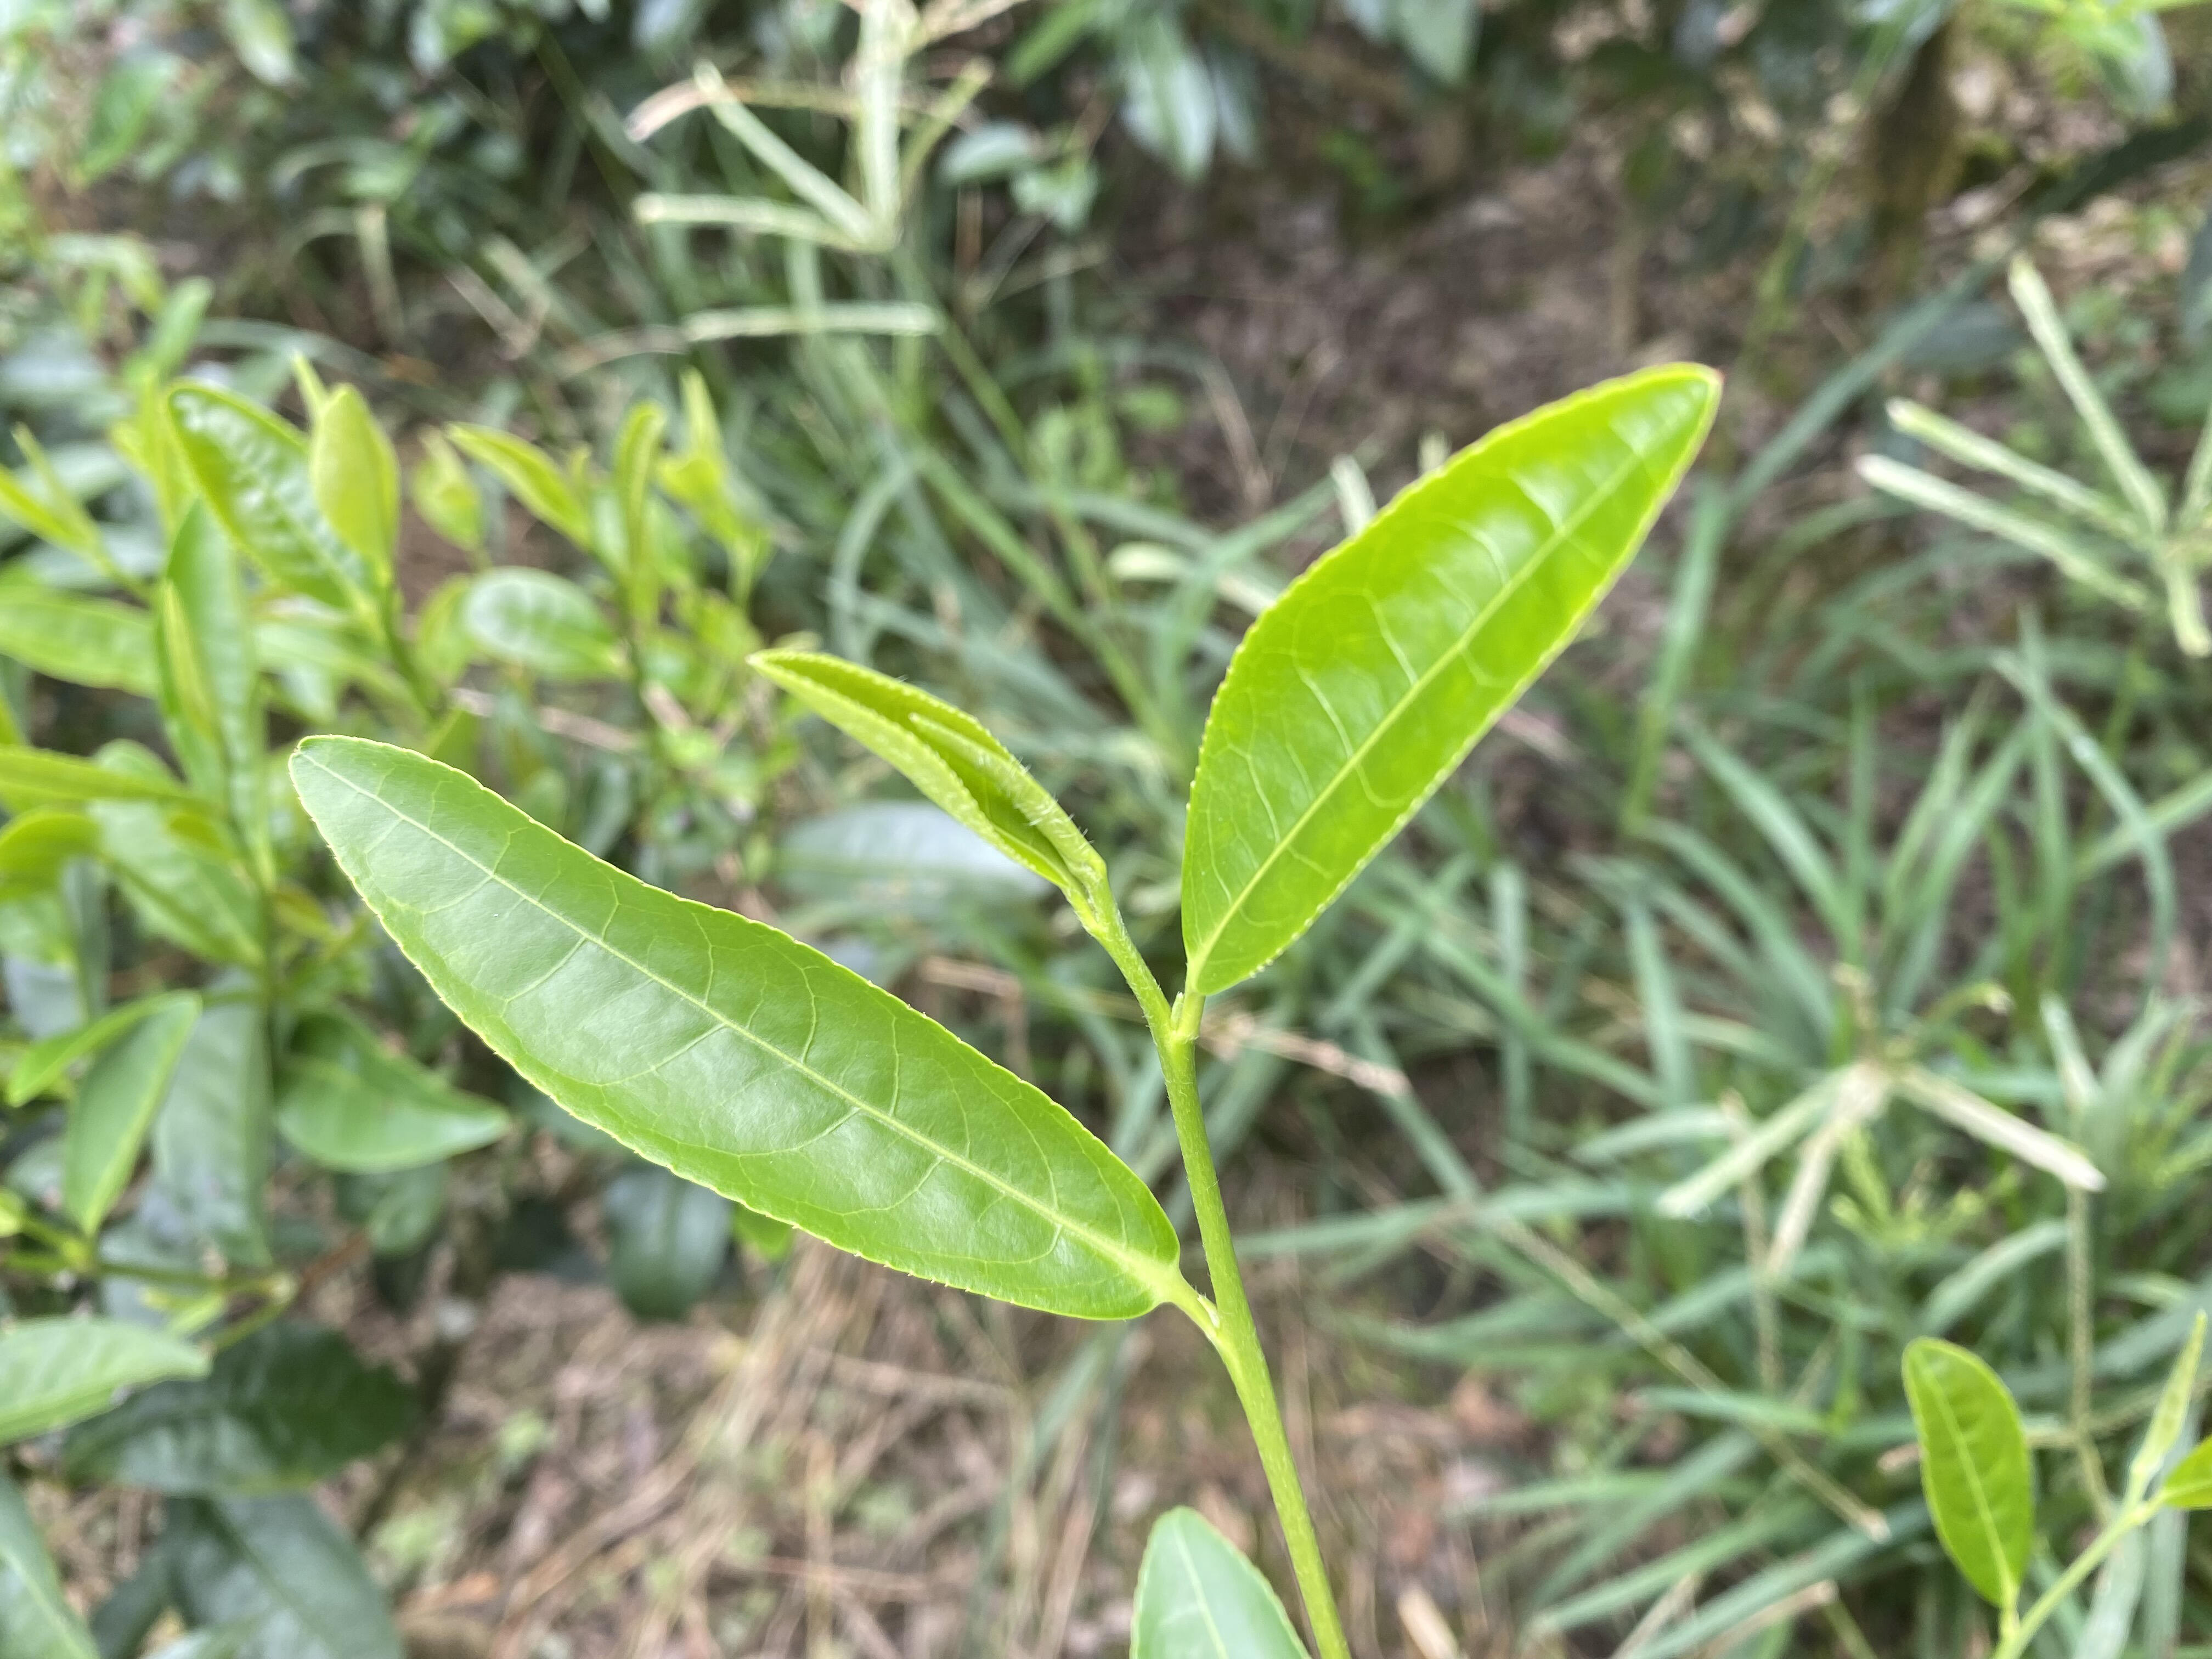healthy: (289, 734, 1179, 1321), (1181, 364, 1721, 997), (1902, 1337, 2029, 1601)
